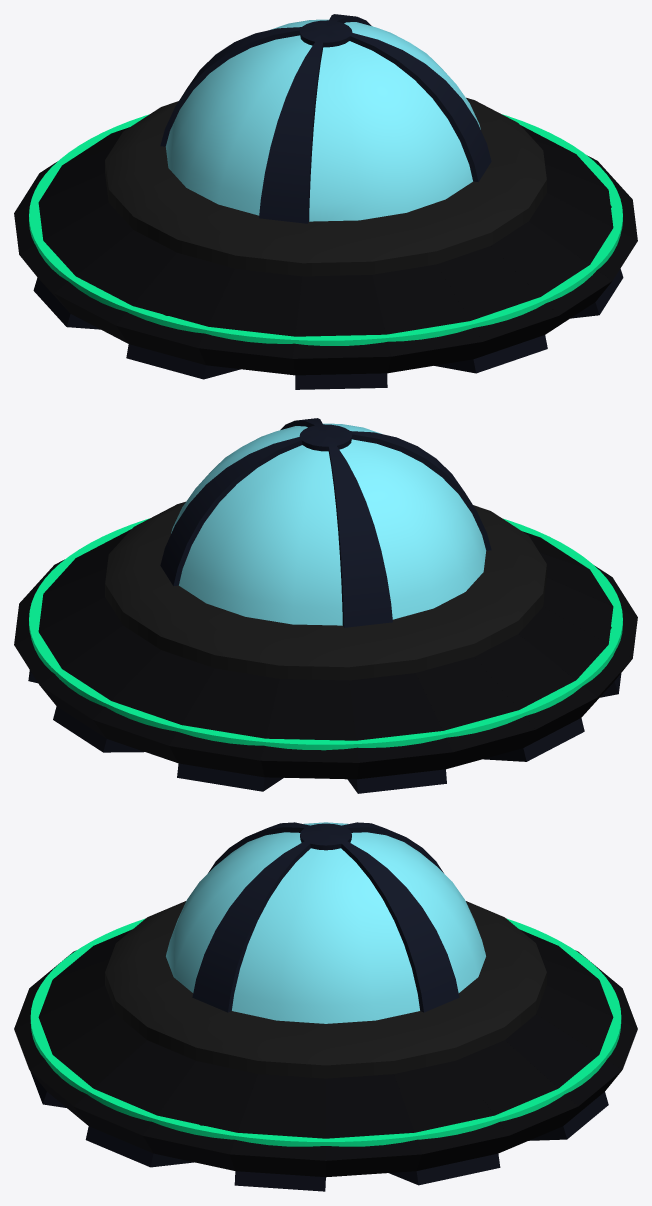
Rendered from newUFO.obj.
3 renders of one model, top to bottom at view 1: azimuth 30°, elevation 25°; view 2: azimuth 150°, elevation 25°; view 3: azimuth 270°, elevation 25°, orthographic.
Parts seen in each view (by area): view 1: pCylinder1, pSphere1, pDisc1; view 2: pCylinder1, pSphere1, pDisc1; view 3: pCylinder1, pSphere1, pDisc1.
Part boxes in pixels (x1,y1,x2,y2): pCylinder1: [14, 97, 637, 389]; pSphere1: [160, 14, 491, 223]; pDisc1: [29, 114, 622, 345]; pCylinder1: [14, 501, 637, 793]; pSphere1: [160, 418, 491, 627]; pDisc1: [29, 518, 622, 750]; pCylinder1: [14, 901, 637, 1191]; pSphere1: [166, 822, 485, 1023]; pDisc1: [30, 918, 621, 1146].
Size of the model in its own units: 19.01 by 10.16 by 19.01.
